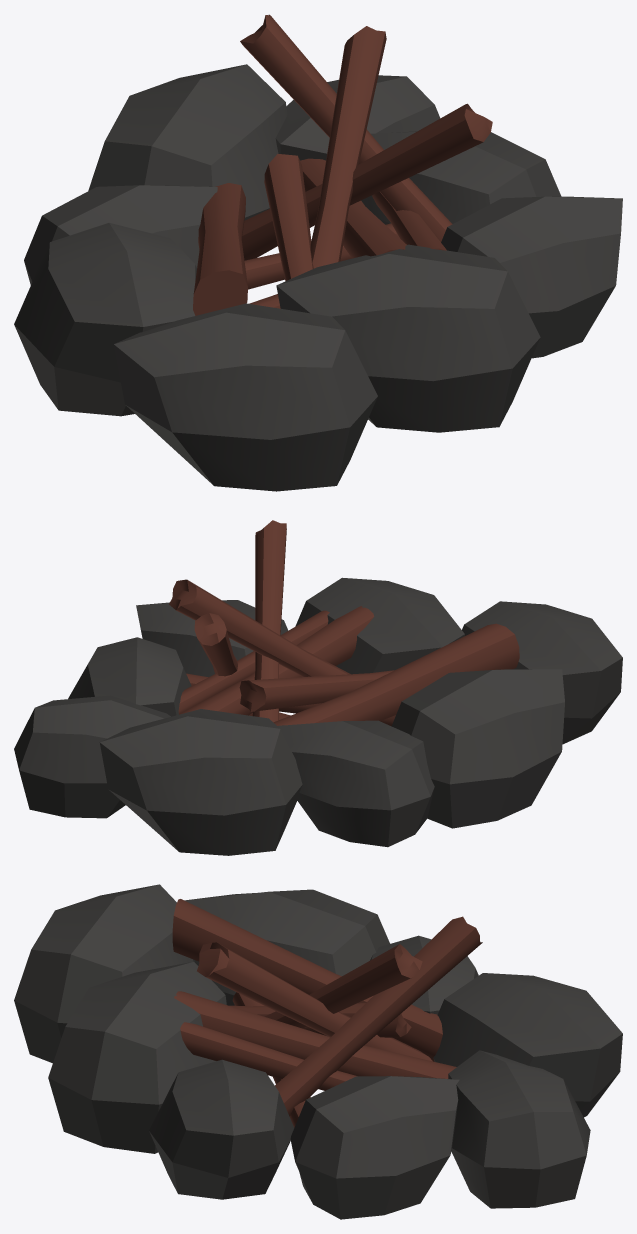
File: FogataSpawn.fbx
3 renders of one model, top to bottom at view 1: azimuth 30°, elevation 25°; view 2: azimuth 150°, elevation 25°; view 3: azimuth 270°, elevation 25°, orthographic. The views are drawn at different scales.
Visible parts, largest first — view 1: Fogata; view 2: Fogata; view 3: Fogata.
Boxes of the visible parts, left/top/right/bottom form: Fogata: left=14, top=14, right=622, bottom=491; Fogata: left=14, top=520, right=622, bottom=855; Fogata: left=14, top=884, right=622, bottom=1219.
Size of the model in its own units: 158 by 66.5 by 172.
